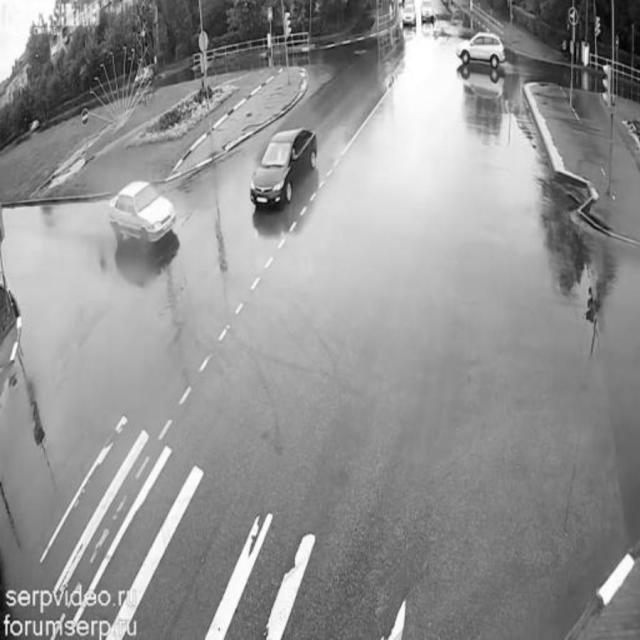vehicle: (243, 128, 321, 218), (107, 180, 174, 256), (454, 29, 509, 77), (417, 0, 435, 34), (400, 3, 418, 30)
